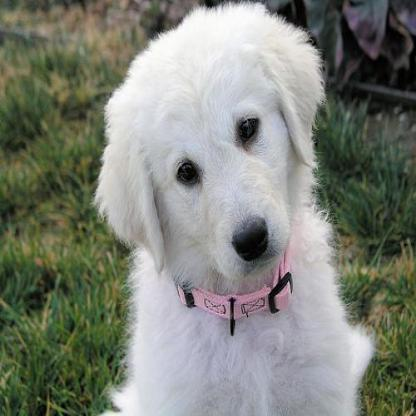kuvasz: (91, 1, 377, 413)
